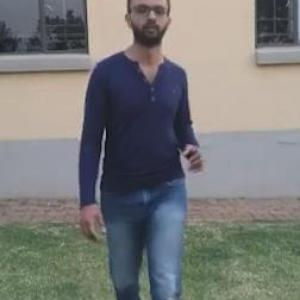follow: (65, 0, 199, 299)
